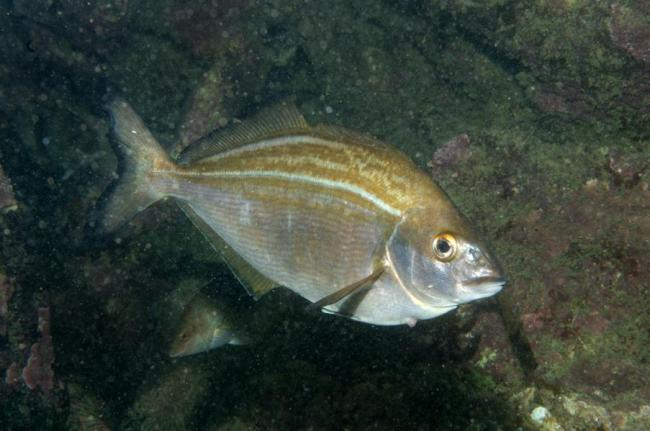fish: (92, 89, 507, 326)
